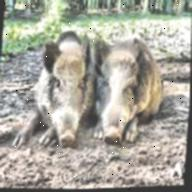boar: (15, 18, 94, 168), (85, 27, 175, 156)
